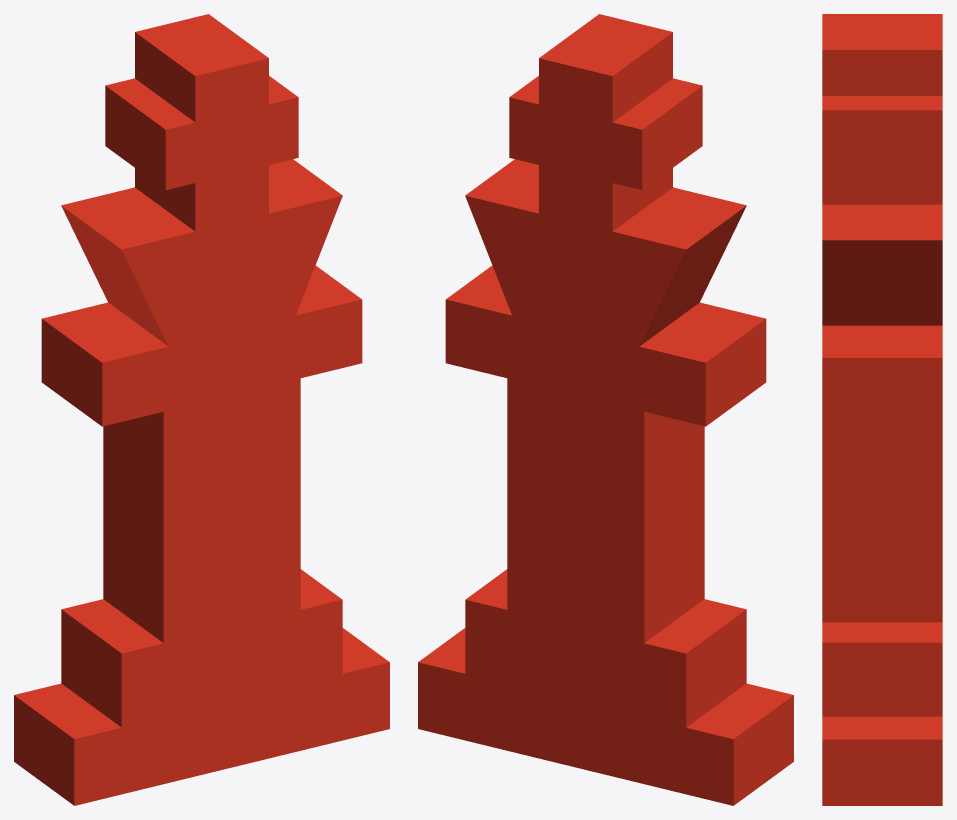
Rendered from Icon_Chess_02.fbx.
3 renders of one model, left to right at view 1: azimuth 30°, elevation 25°; view 2: azimuth 150°, elevation 25°; view 3: azimuth 270°, elevation 25°, orthographic.
Visible parts, largest first — view 1: Icon_Chess_02; view 2: Icon_Chess_02; view 3: Icon_Chess_02.
Part boxes in pixels (bbox=[...]): Icon_Chess_02: bbox=[14, 14, 389, 805]; Icon_Chess_02: bbox=[418, 14, 793, 805]; Icon_Chess_02: bbox=[822, 14, 942, 805].
Bounding box in the file's own units: 36.36 × 77.12 × 12.06.
